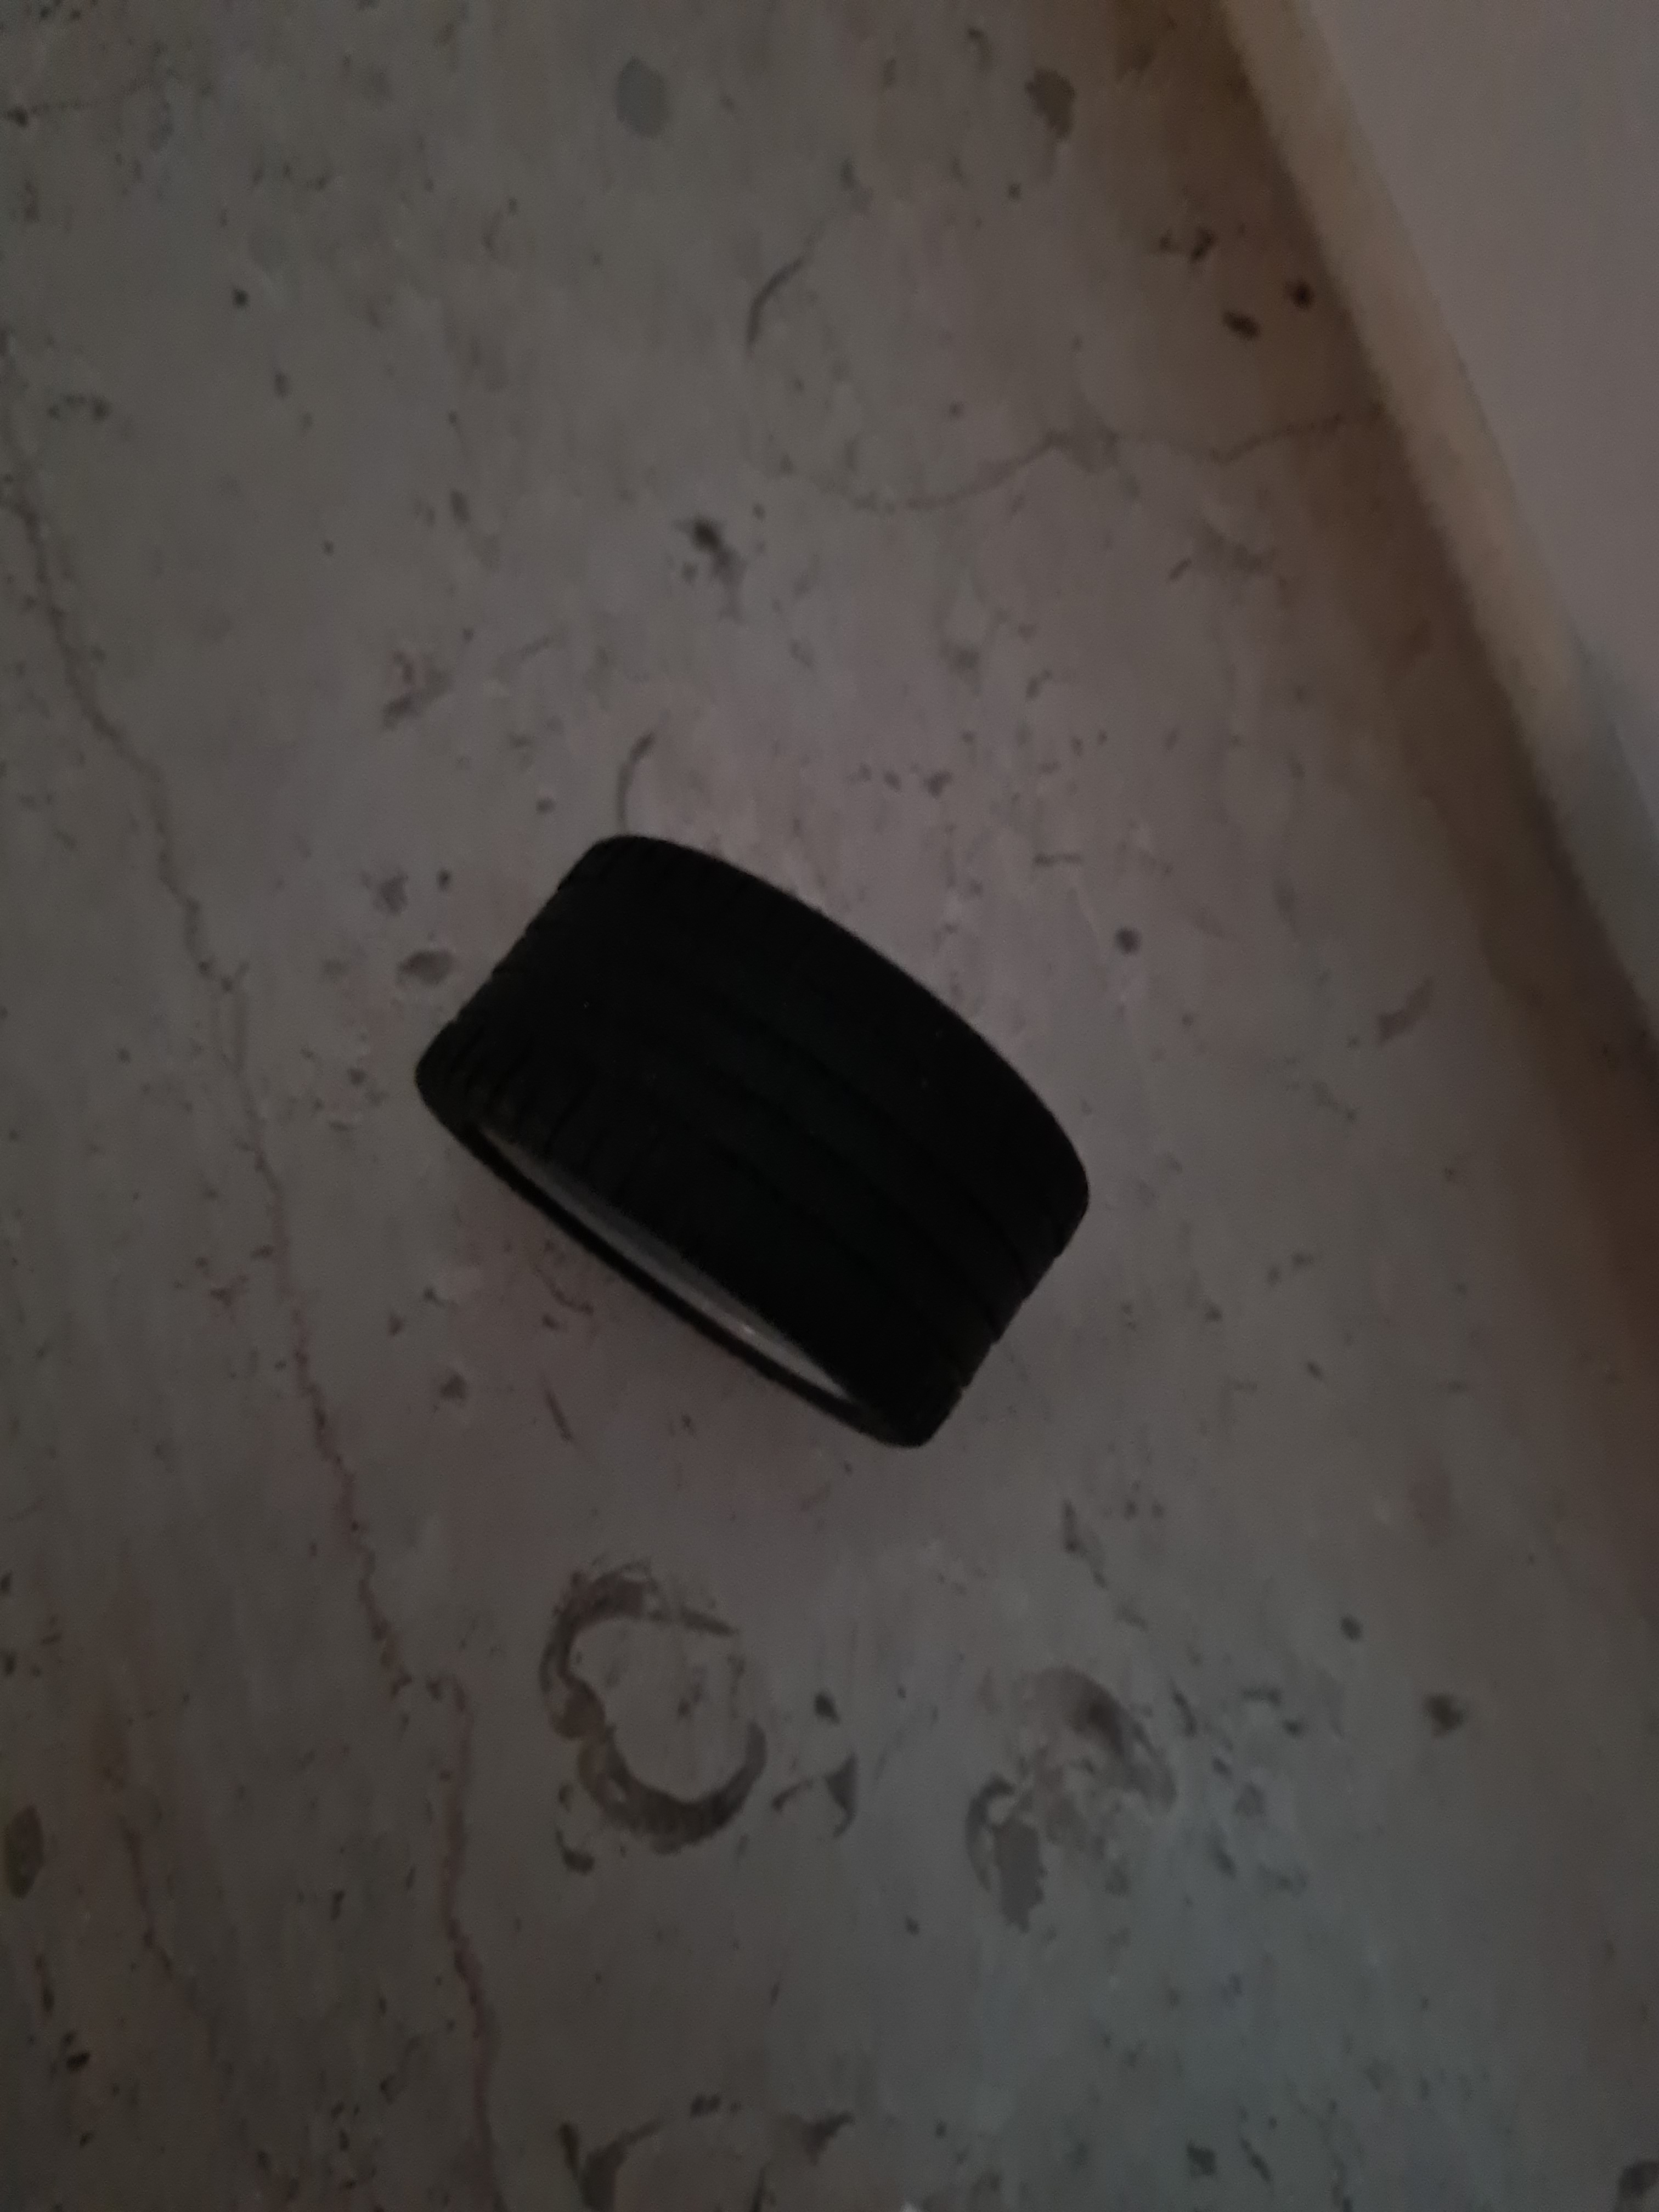Rad: (411, 833, 1096, 1458)
